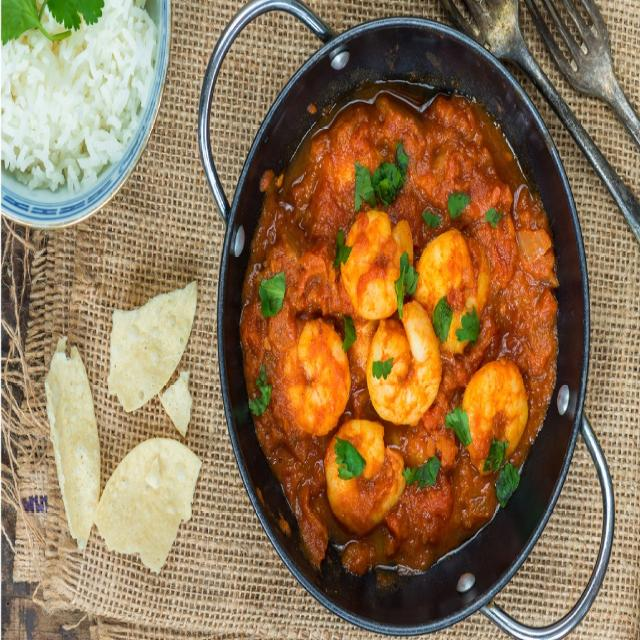prawn thokku: (246, 108, 542, 559)
